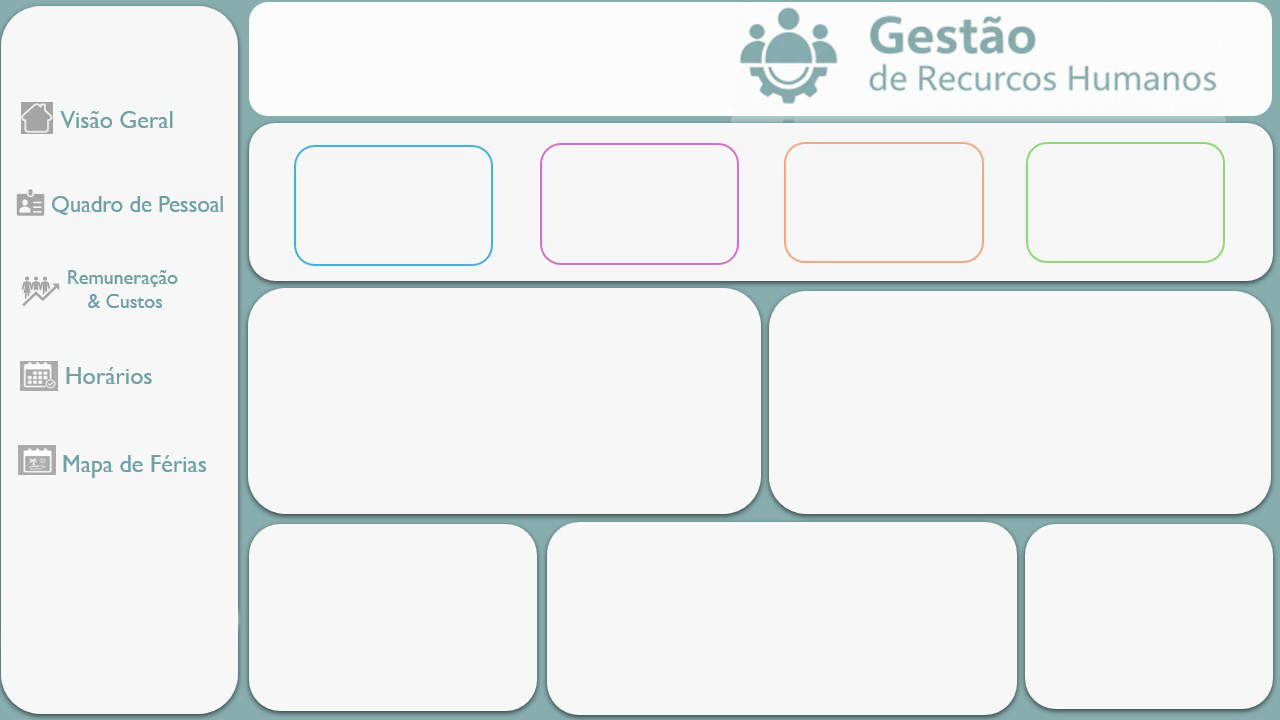

The dashboard page shown, as its layout file describes it:
{"tool":"powerbi","page":{"name":"Visão Geral","canvas":[1280,720],"ordinal":0},"visuals":[{"type":"multiRowCard","fields":{"Values":["Medidas.Total de Funcionario"]},"box":[298.6,158.9,187.6,89.9],"z":0},{"type":"cardVisual","fields":{"Data":["Medidas.Custo Bimestral"]},"box":[543.6,158.9,189.5,88],"z":1000},{"type":"multiRowCard","fields":{"Values":["Medidas.Funcionário em Próximas Férias","Medidas.Próxima Data de Férias"]},"box":[786.7,147.4,214.4,120.6],"z":2000},{"type":"actionButton","box":[0,0,100,40],"z":3000},{"type":"multiRowCard","fields":{"Values":["Medidas.Funcionários Ativos","Medidas.Funcionários Desligados"]},"box":[1037.4,145.5,195.2,109.1],"z":4000},{"type":"clusteredColumnChart","title":"Custo total por funcionário por Cargo","fields":{"Category":["Cargo.Cargo"],"Y":["Média de Antiguidade anos.Custo total por funcionario"]},"box":[260,293.8,515.4,221.5],"z":5000},{"type":"tableEx","fields":{"Values":["Cargo.Cargo","Média de Antiguidade anos.Total de Horas Trabalhadas"]},"box":[798.6,292.4,456.8,210.2],"z":6000},{"type":"clusteredColumnChart","fields":{"Category":["Localidade.Localidade"],"Y":["Média de Antiguidade anos.Total Minutos de Atraso"]},"box":[555.4,529.2,456.9,190.8],"z":7000},{"type":"multiRowCard","fields":{"Values":["Medidas.Próximo Aniversariante","Medidas.Próxima Data Aniversário"]},"box":[253.8,538.5,286.2,160],"z":8000},{"type":"tableEx","title":"Funcionário em Férias","fields":{"Values":["Base de funcionarios.Nome Completo","Cargo.Cargo","Média de Antiguidade anos.Funcionários Ausentes Hoje"]},"box":[1027.7,538.5,236.8,159.7],"z":9000}]}

Visuals, with their boxes in screenshot pixels (x1, y1, x2, y2), scaled from the page's 1280x720 canvas onto the 1280x720 screenshot:
multiRowCard - Medidas.Total de Funcionario: bbox=[299, 159, 486, 249]
cardVisual - Medidas.Custo Bimestral: bbox=[544, 159, 733, 247]
multiRowCard - Medidas.Funcionário em Próximas Férias x Medidas.Próxima Data de Férias: bbox=[787, 147, 1001, 268]
actionButton: bbox=[0, 0, 100, 40]
multiRowCard - Medidas.Funcionários Ativos x Medidas.Funcionários Desligados: bbox=[1037, 146, 1233, 255]
"Custo total por funcionário por Cargo" clusteredColumnChart: bbox=[260, 294, 775, 515]
tableEx - Cargo.Cargo x Média de Antiguidade anos.Total de Horas Trabalhadas: bbox=[799, 292, 1255, 503]
clusteredColumnChart - Localidade.Localidade x Média de Antiguidade anos.Total Minutos de Atraso: bbox=[555, 529, 1012, 719]
multiRowCard - Medidas.Próximo Aniversariante x Medidas.Próxima Data Aniversário: bbox=[254, 538, 540, 698]
"Funcionário em Férias" tableEx: bbox=[1028, 538, 1264, 698]
